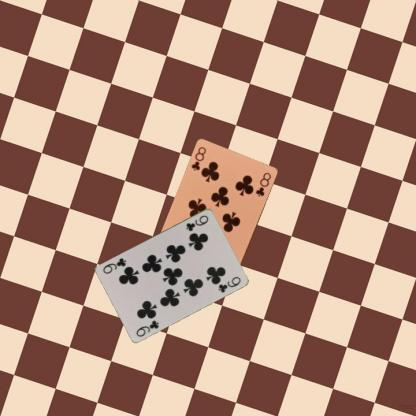8c: (189, 145, 207, 172)
9c: (134, 317, 160, 338), (183, 212, 210, 232)
